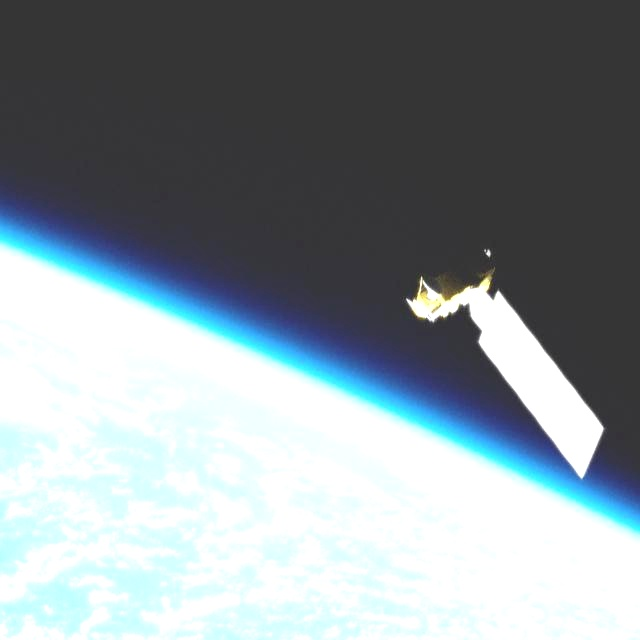satellite: (392, 217, 624, 483)
